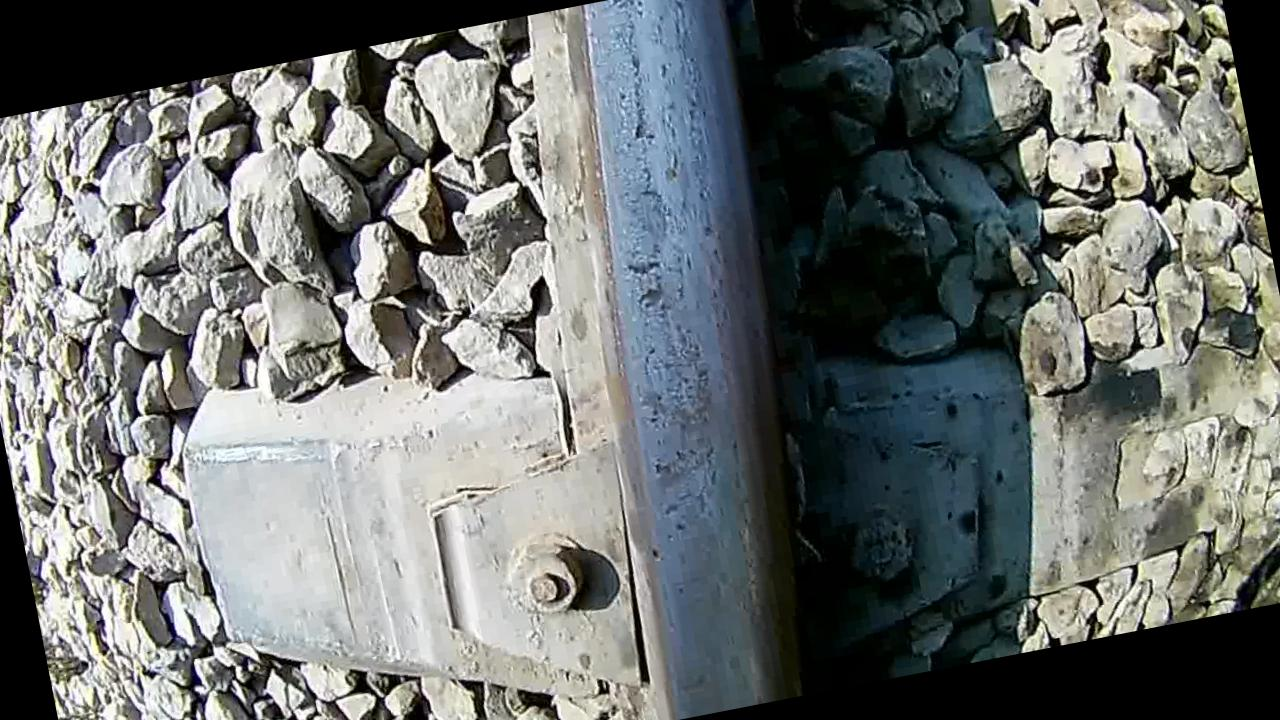crack: (536, 0, 850, 720)
